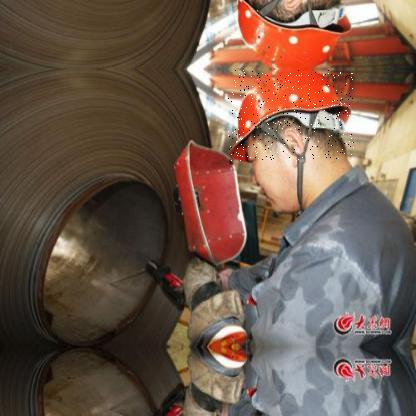safetyhelmet: (228, 70, 355, 162)
